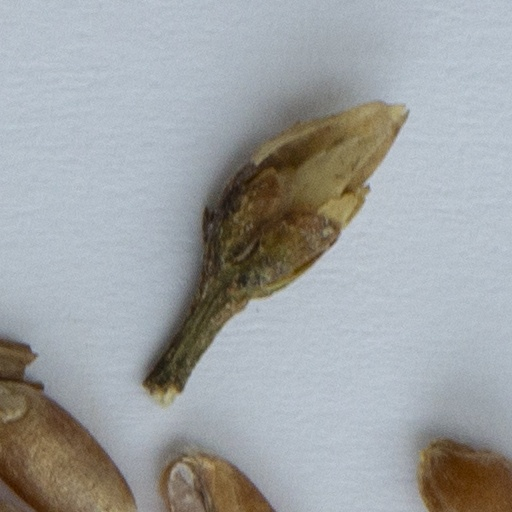Wheat-grain-damaged-poly: (154, 443, 286, 511)
